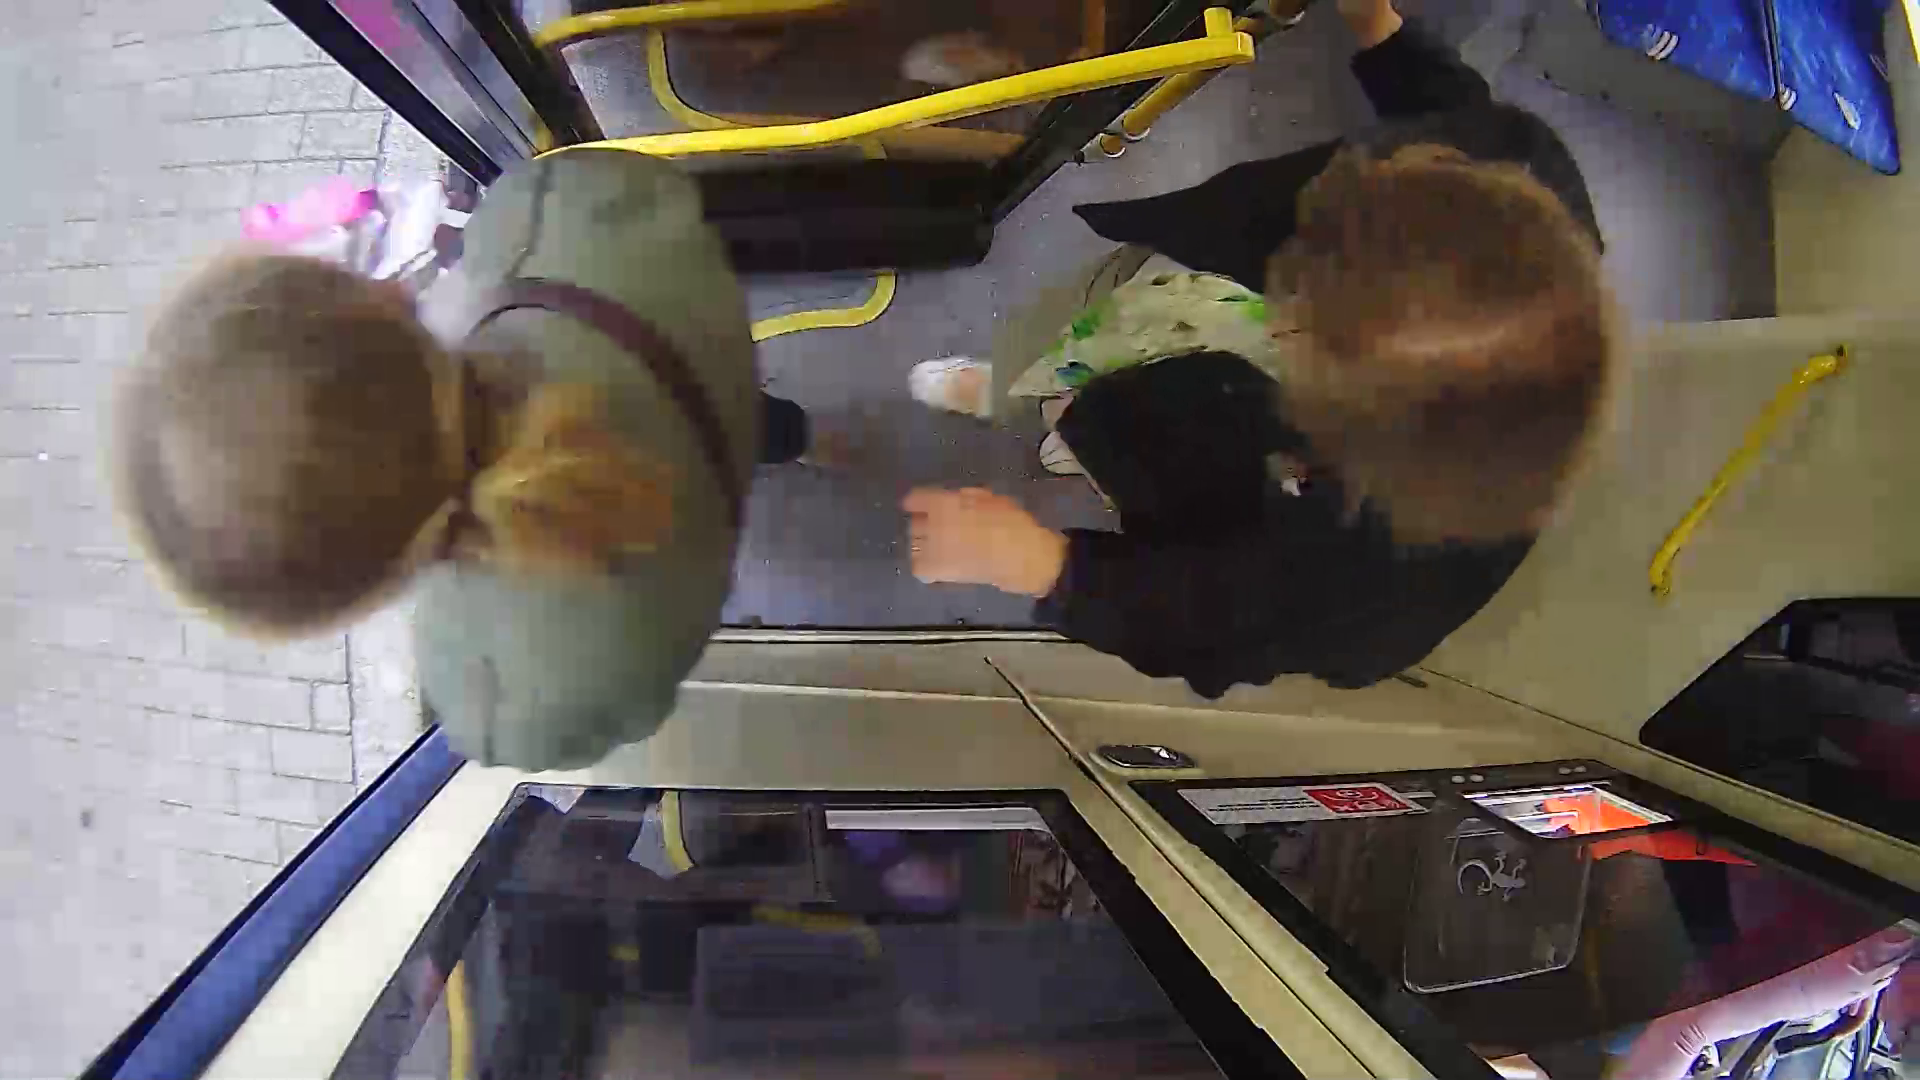person: (127, 167, 852, 749), (996, 114, 1677, 690)
